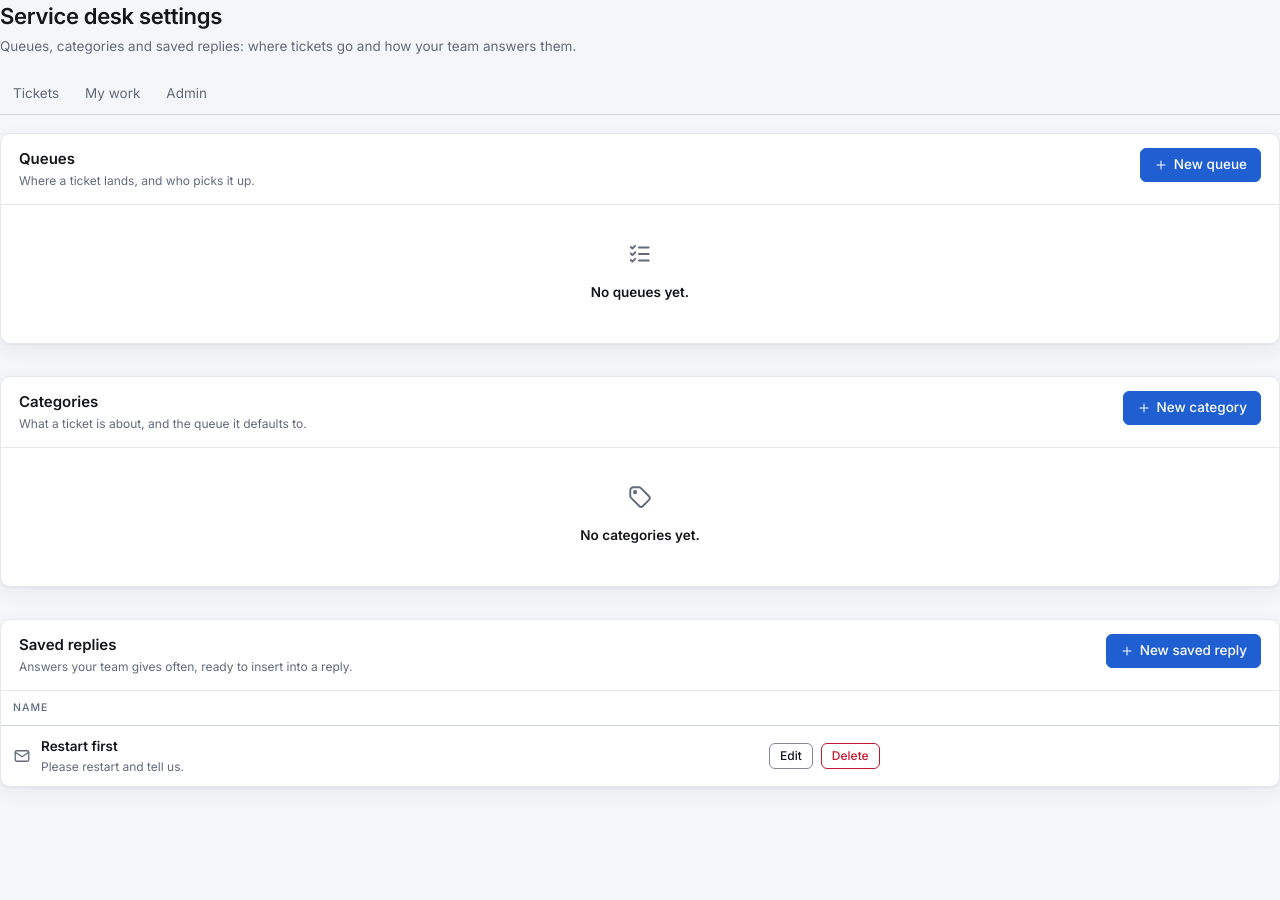
Scenario: saved replies › names the missing field instead of doing nothing
Click the button "New saved reply" at (1183, 650), box [1106, 634, 1261, 668]
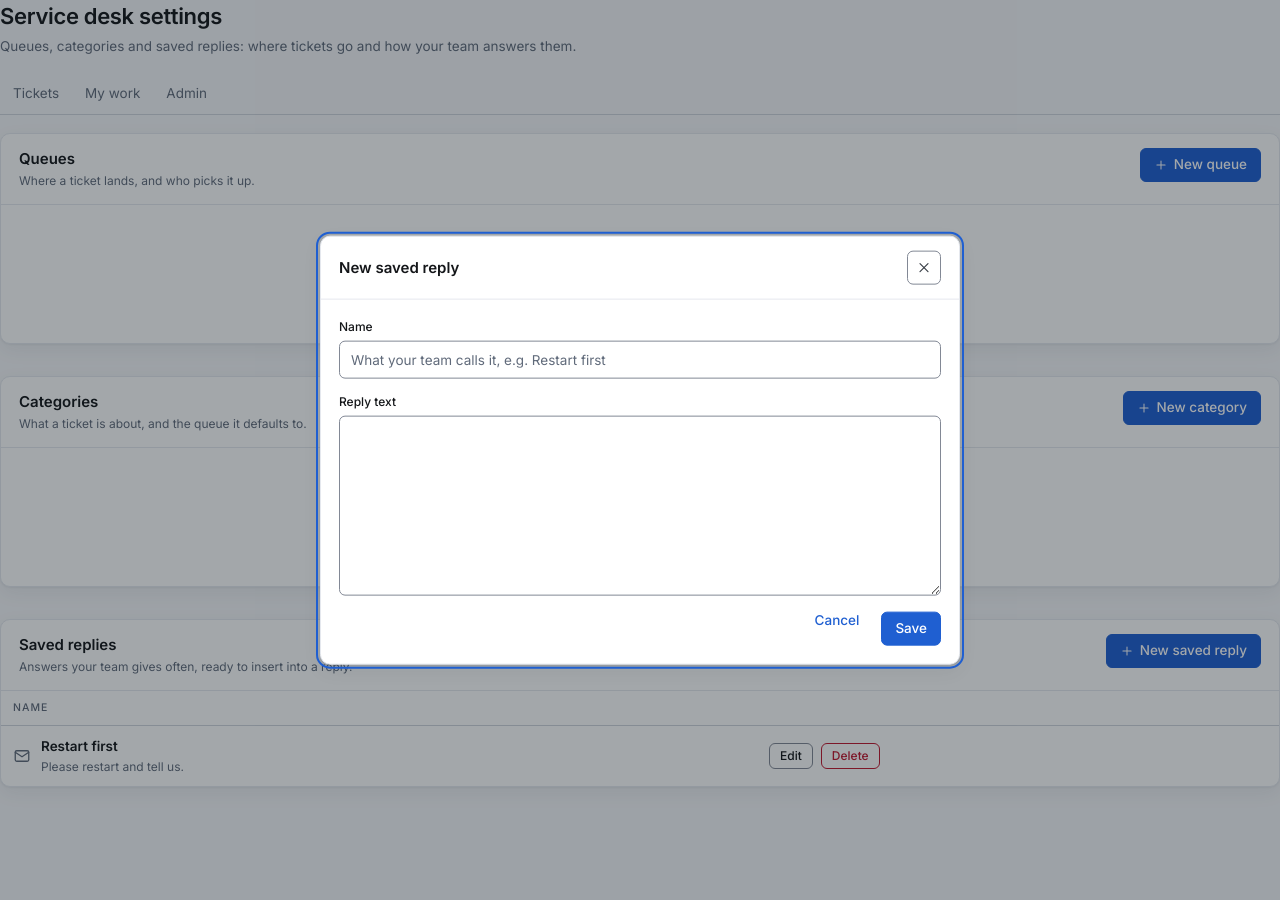
Click the button "Save" at (911, 629), box [881, 612, 941, 645]
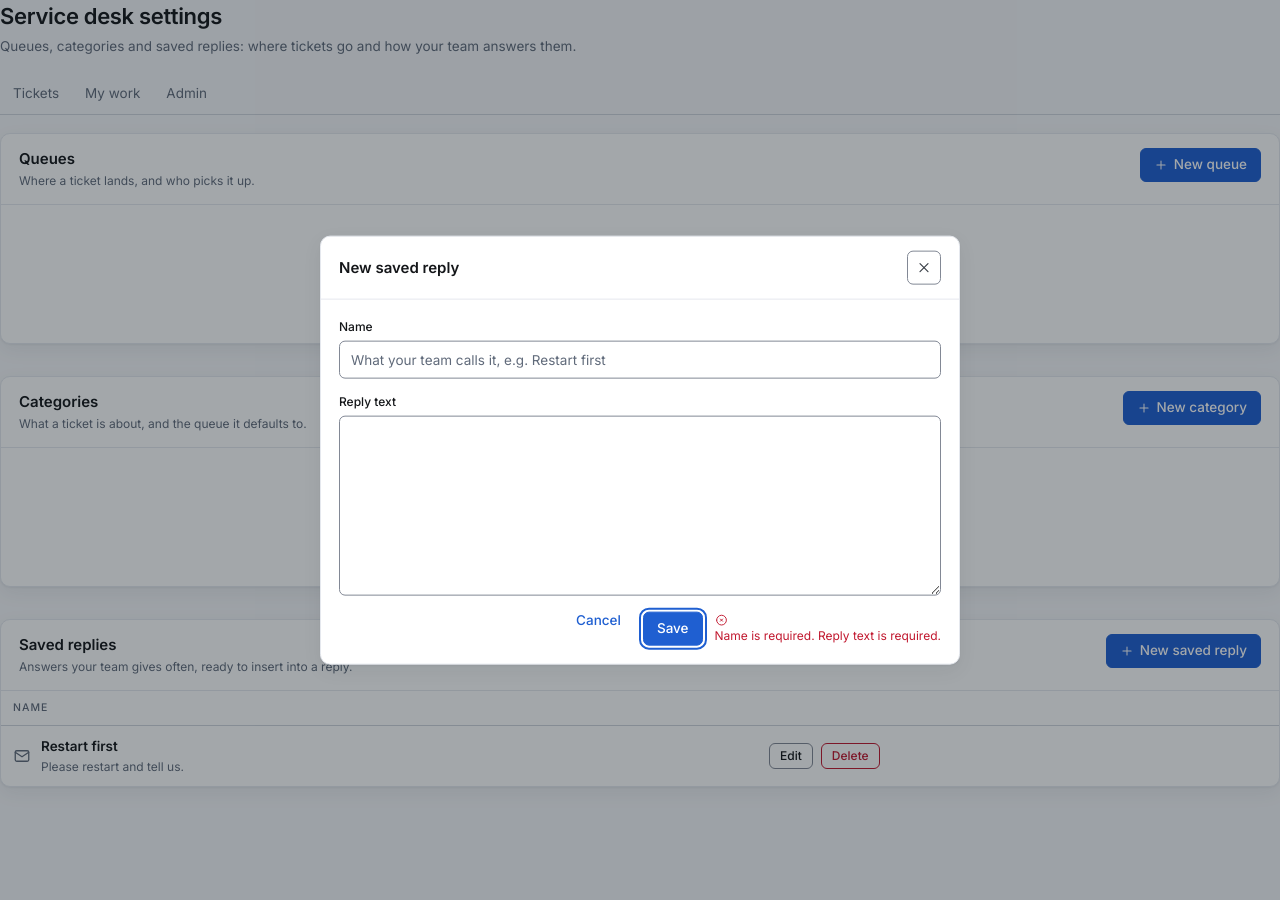
Expected: the message shows "Name", [714, 627, 938, 642]
